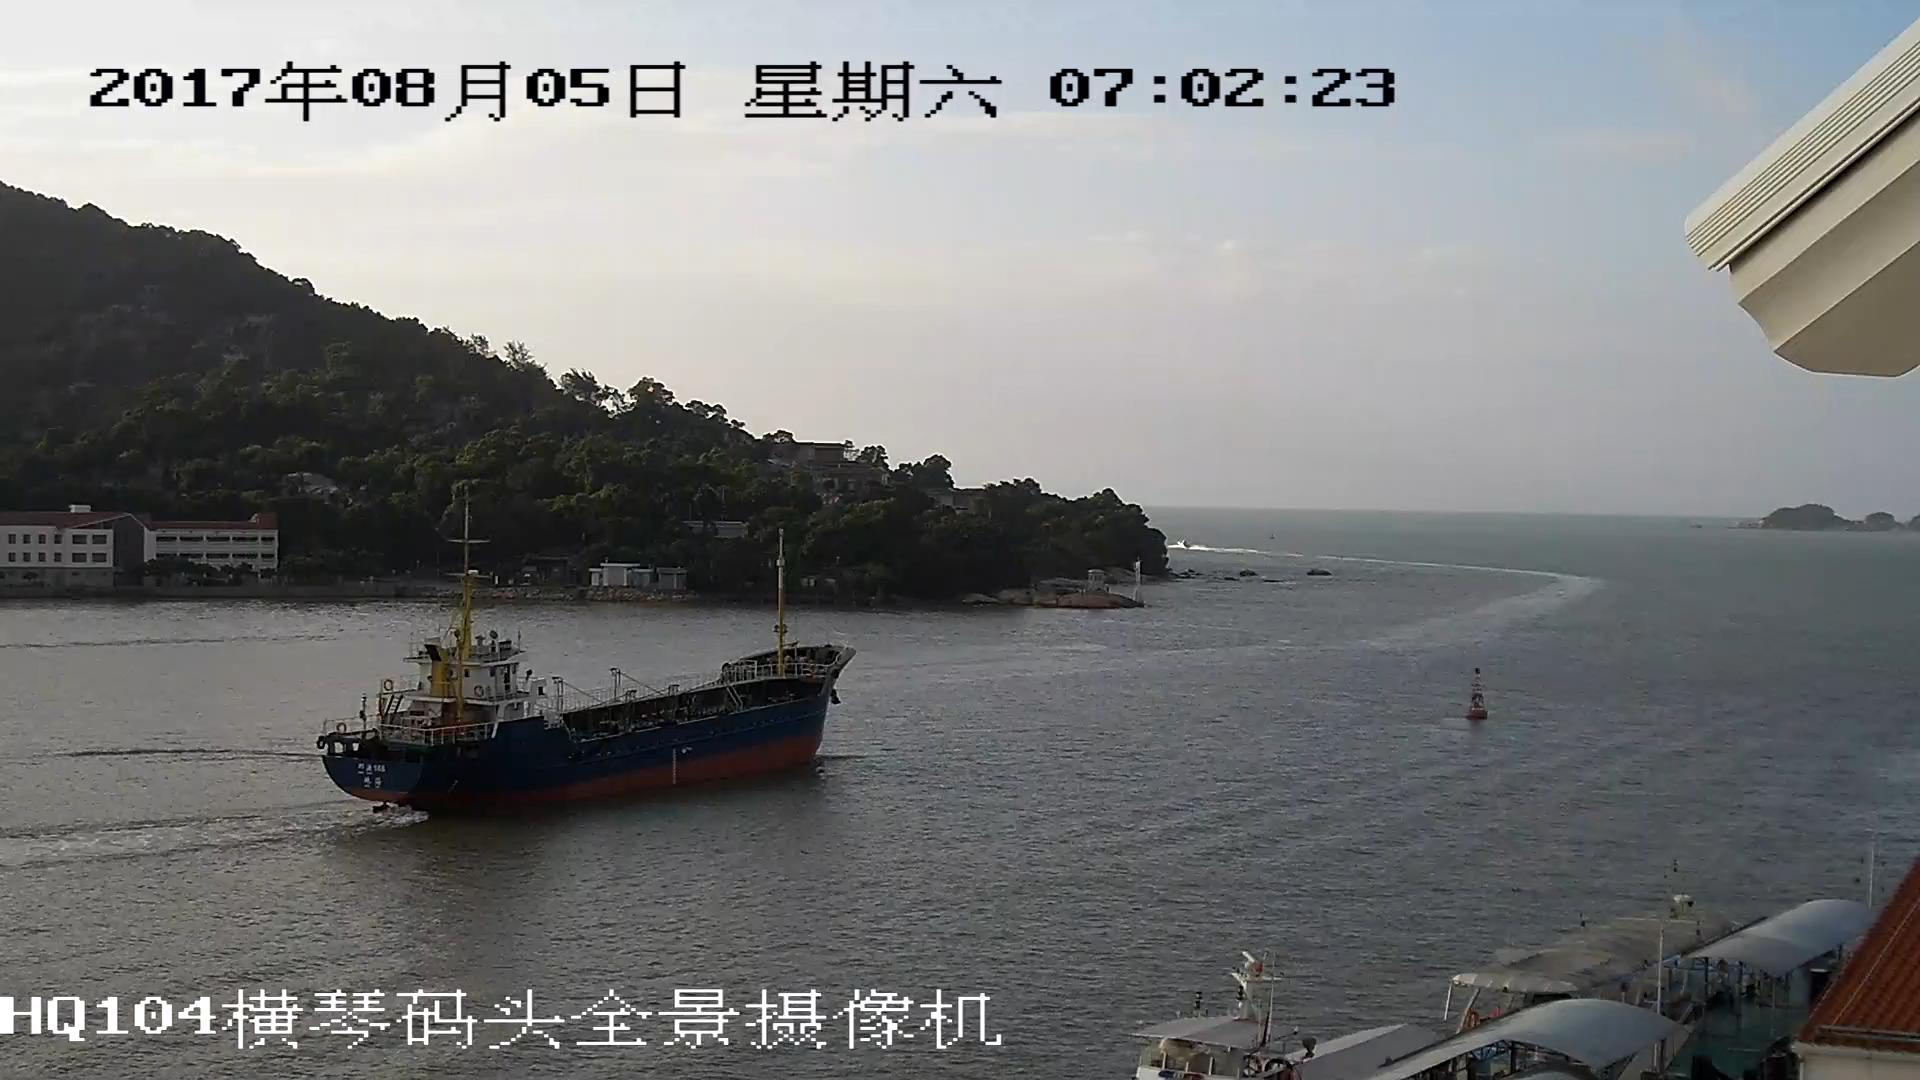general cargo ship: (320, 526, 857, 820)
